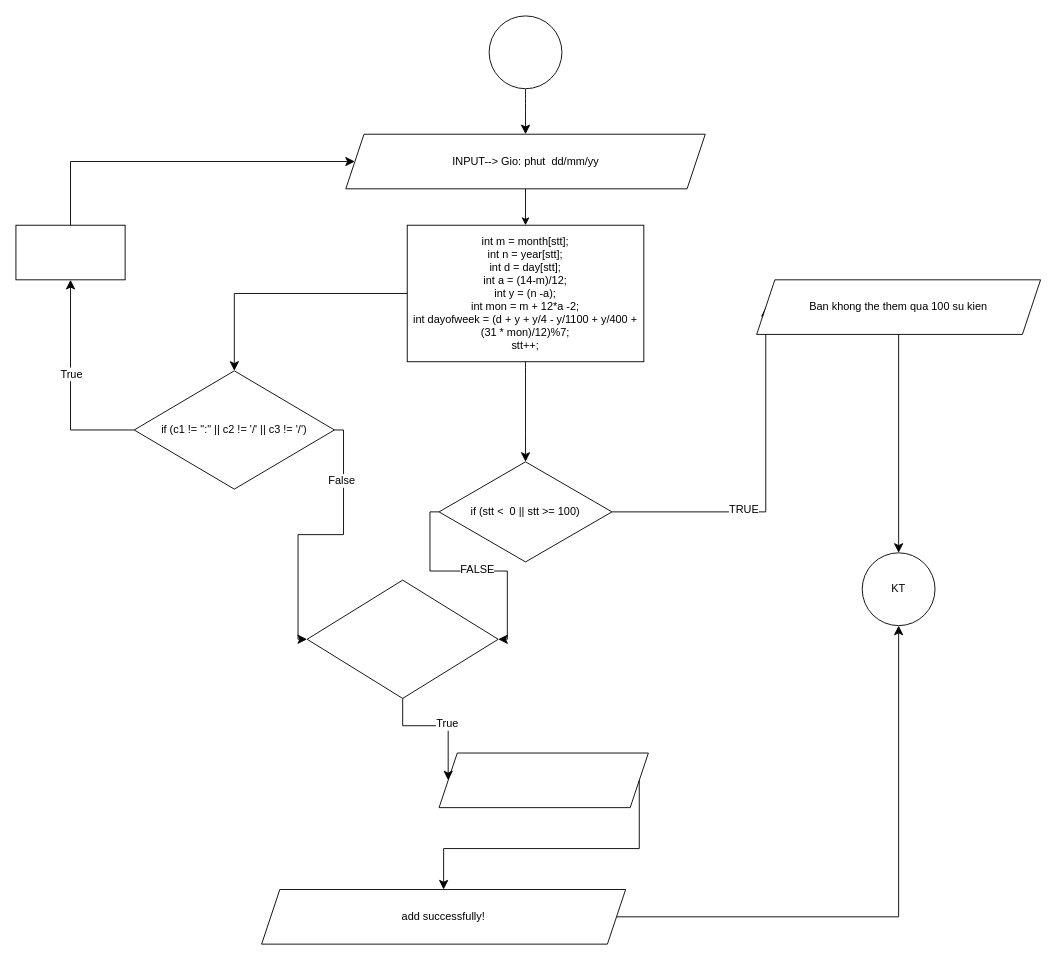
The diagram is 1057 pixels wide and 960 high, and some of its shapes have lost their labels. The shapes that lost their labels are listed below. From the top down, each one's centre as x and y in pixels, then its label:
At pixel 525 52: "bd".
At pixel 70 252: "return".
At pixel 402 638: "if (stt == 99)".
At pixel 543 780: "Da day su kien".
